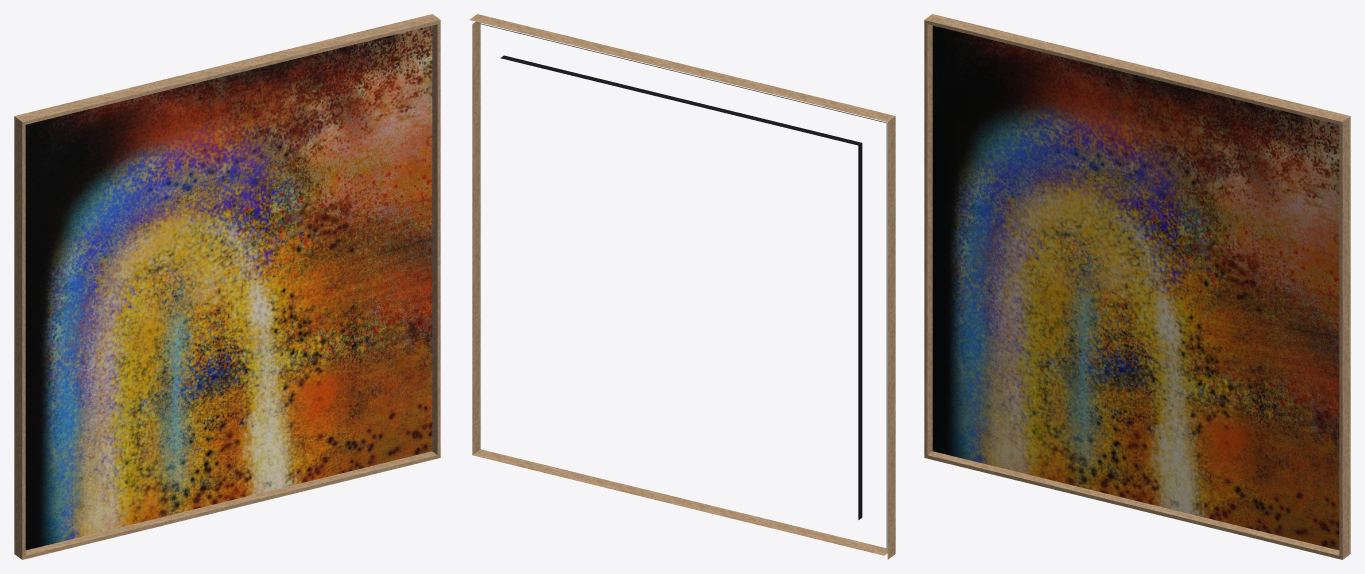
The model's file is va270_grand_caisse-chene.glb.
3 renders of one model, left to right at view 1: azimuth 30°, elevation 25°; view 2: azimuth 150°, elevation 25°; view 3: azimuth 330°, elevation 25°, orthographic.
Parts seen in each view (by area): view 1: va270_grand_caisse-chene; view 2: va270_grand_caisse-chene; view 3: va270_grand_caisse-chene.
Boxes of the visible parts, <box> form: va270_grand_caisse-chene: <box>14,14,440,559</box>; va270_grand_caisse-chene: <box>469,14,895,559</box>; va270_grand_caisse-chene: <box>924,14,1350,559</box>.
Size of the model in its own units: 1.03 by 1.03 by 0.035.
Materials: 4 (2 with a texture image).
